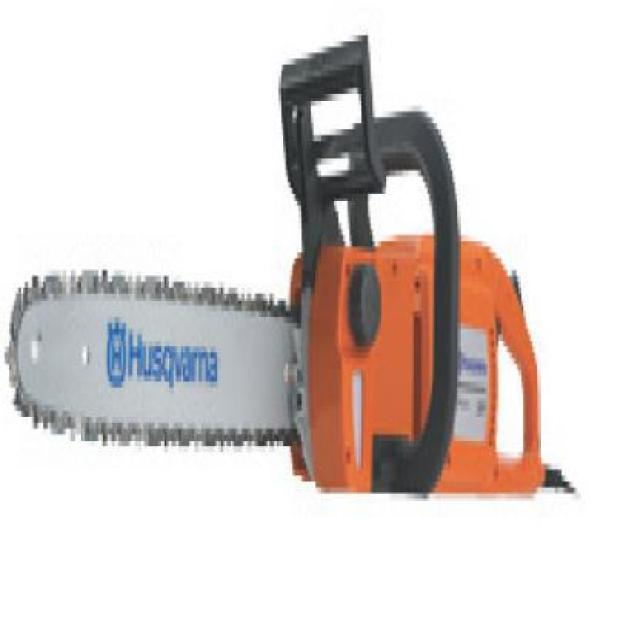Chainsaw: (0, 23, 577, 512)
